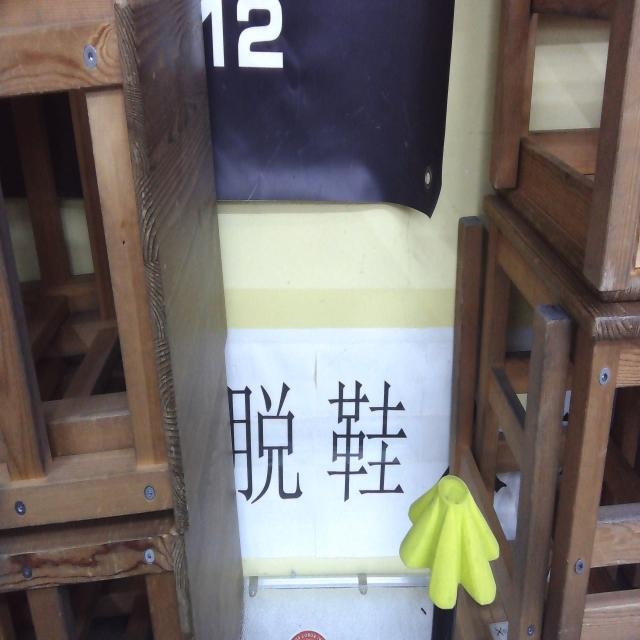Yellow-Stake-Head: (398, 474, 498, 612)
